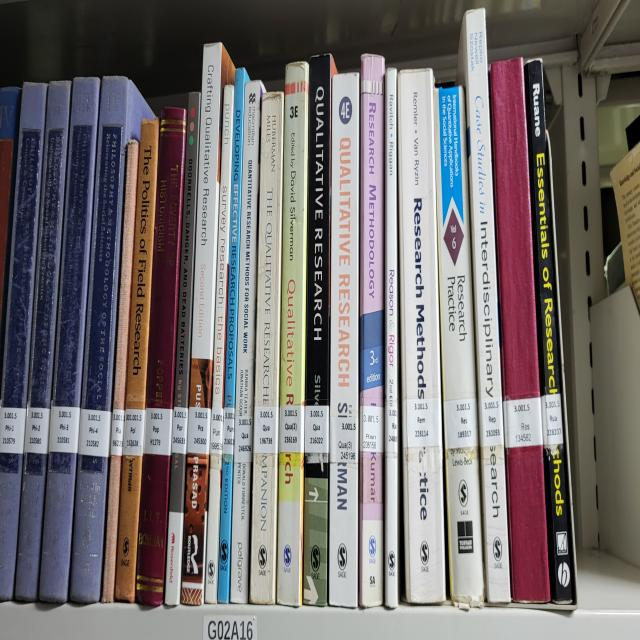Book: (70, 76, 152, 603), (489, 57, 550, 603), (39, 78, 100, 603), (459, 8, 511, 603), (181, 43, 234, 603), (15, 81, 71, 601), (525, 60, 578, 606), (434, 87, 485, 606), (135, 108, 186, 606), (398, 70, 445, 603), (0, 81, 48, 601), (115, 119, 159, 601), (302, 54, 336, 606), (165, 92, 200, 606), (276, 62, 309, 606), (250, 92, 284, 603), (102, 141, 139, 603), (230, 81, 262, 603), (329, 73, 360, 609), (218, 68, 249, 603), (205, 84, 234, 603), (359, 54, 385, 606), (384, 68, 400, 609)
Label: (444, 398, 478, 449), (406, 398, 441, 446), (79, 409, 111, 457), (49, 406, 80, 455), (144, 409, 172, 457), (330, 417, 358, 463), (24, 406, 50, 455), (254, 406, 279, 455), (480, 395, 504, 446), (0, 409, 26, 455), (305, 406, 329, 455), (280, 406, 305, 452), (188, 406, 211, 455), (122, 409, 145, 457), (360, 406, 384, 452), (171, 406, 188, 455), (234, 417, 252, 463), (110, 409, 125, 457), (385, 406, 398, 455), (222, 409, 235, 457)
